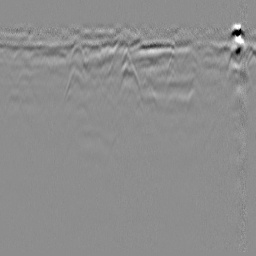cavity: (116, 58, 141, 91)
